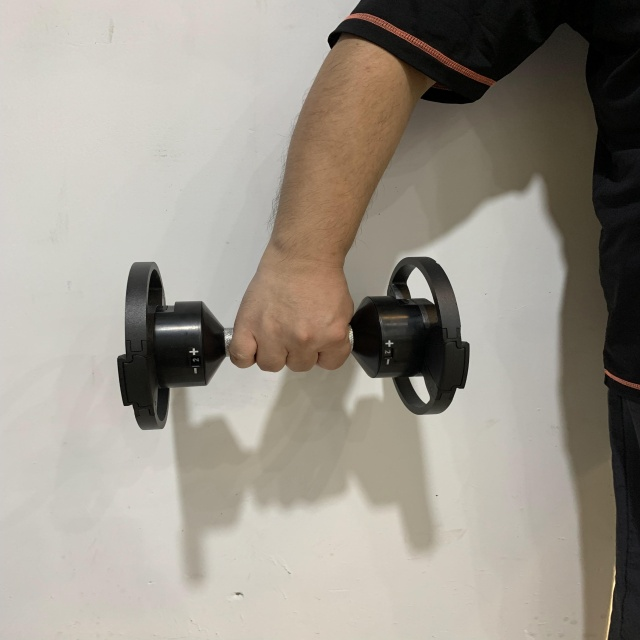01-2kg: (113, 256, 473, 433)
